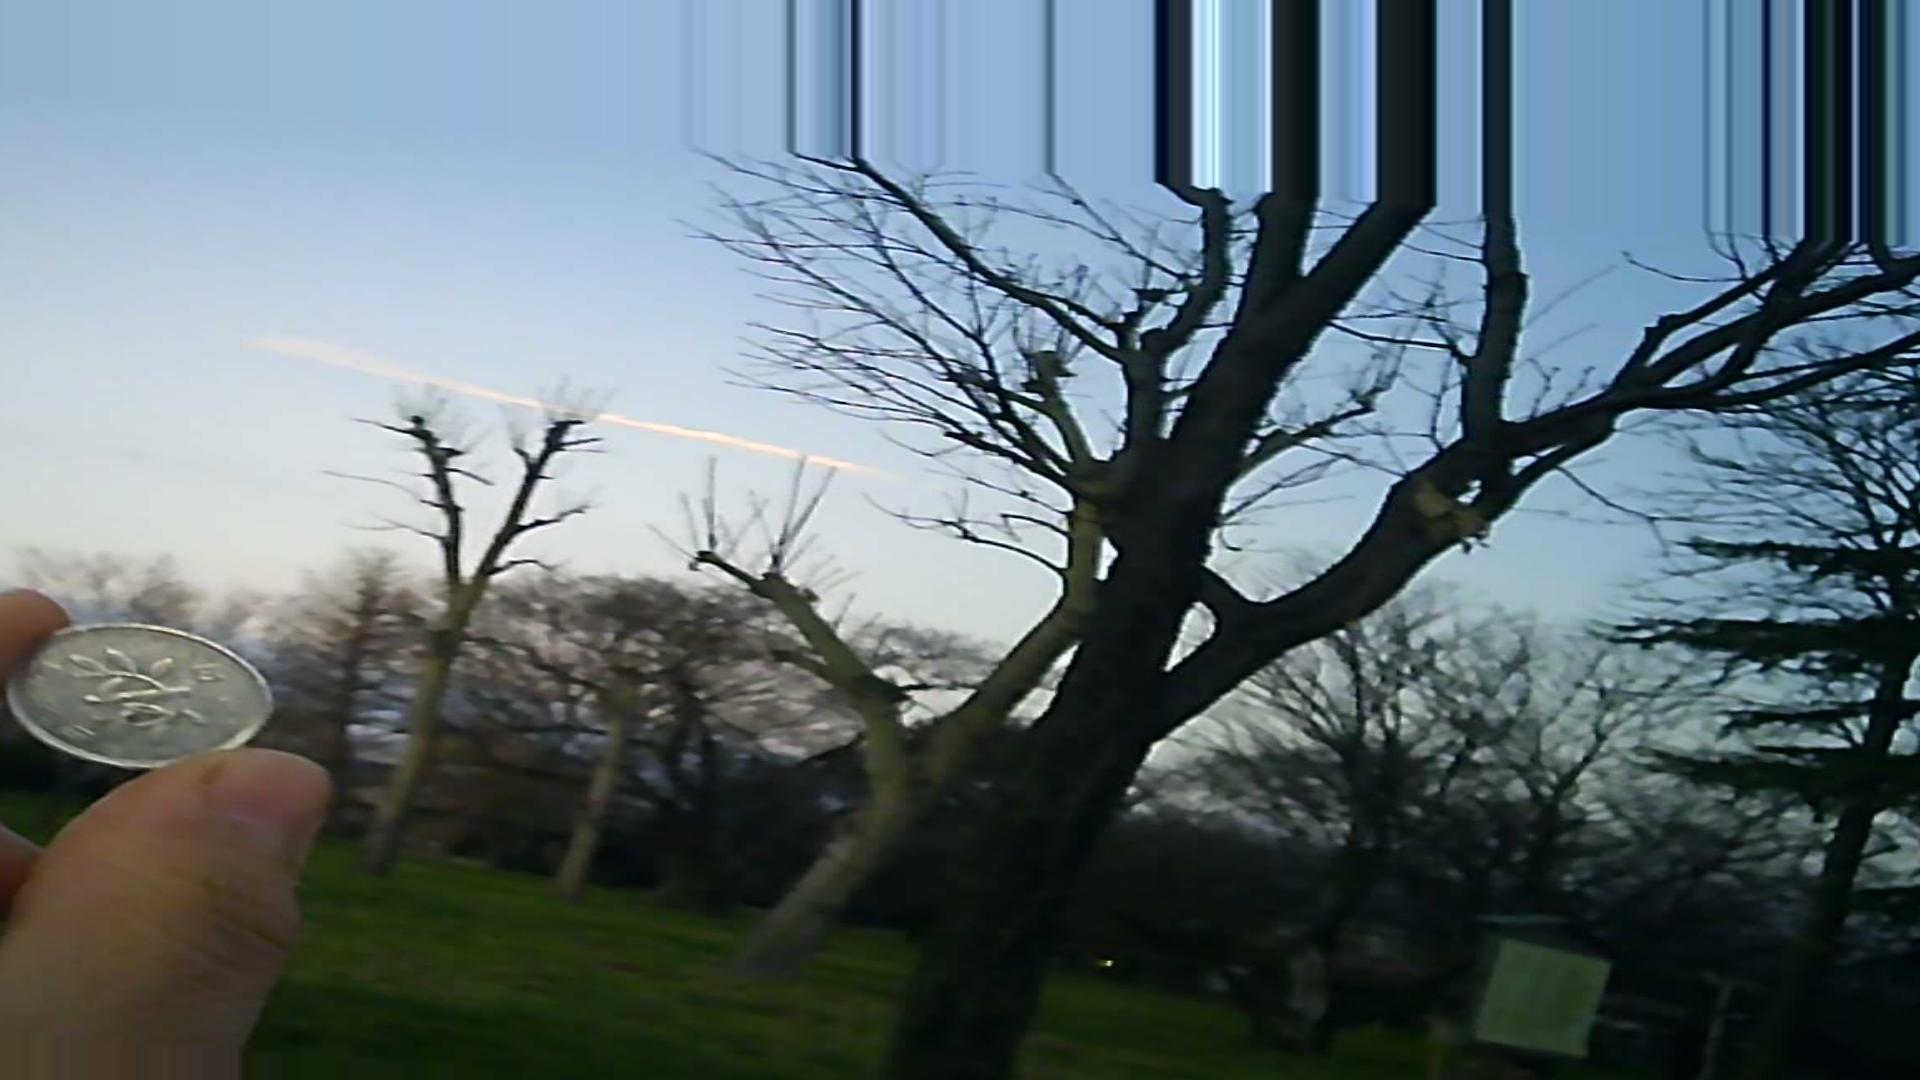1 Yen: (11, 615, 287, 787)
